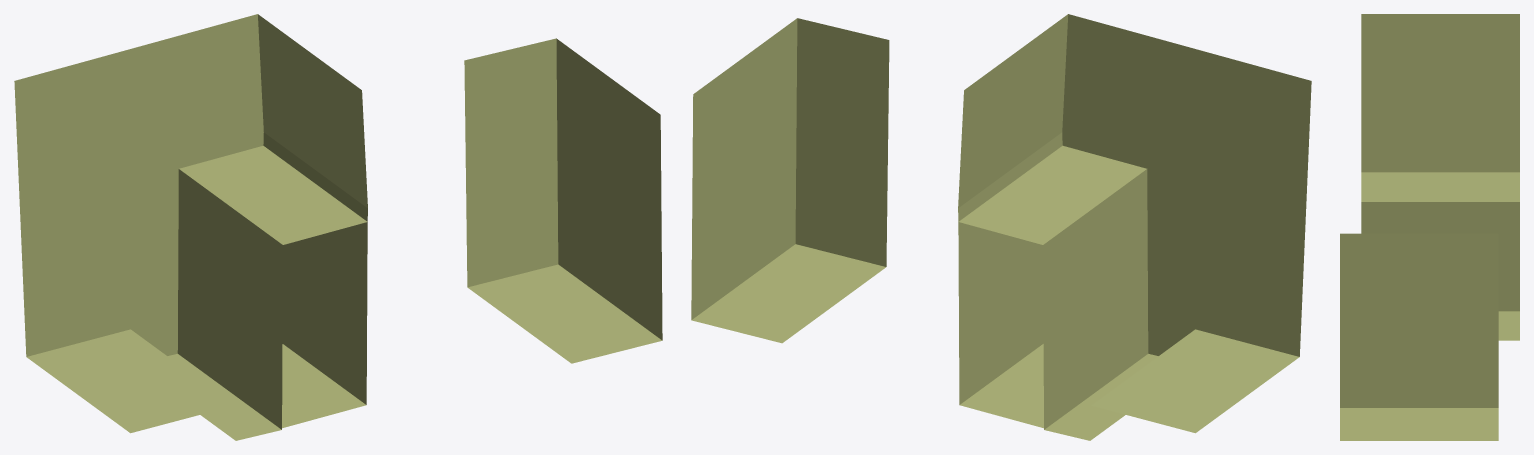
The picture shows the model from 3 angles, left to right: view 1: azimuth 30°, elevation 25°; view 2: azimuth 150°, elevation 25°; view 3: azimuth 270°, elevation 25°; orthographic projection. The views are drawn at different scales.
Visible parts, largest first — view 1: 0_1_0_0_1_3_2_2_1_3; view 2: 0_1_0_0_1_3_2_2_1_3; view 3: 0_1_0_0_1_3_2_2_1_3.
Boxes of the visible parts, box(x1,y1,x2,y2) form: 0_1_0_0_1_3_2_2_1_3: box(14, 14, 662, 440); 0_1_0_0_1_3_2_2_1_3: box(691, 14, 1311, 440); 0_1_0_0_1_3_2_2_1_3: box(1340, 14, 1519, 440).
Size of the model in its own units: 26.43 by 15.26 by 10.2.
